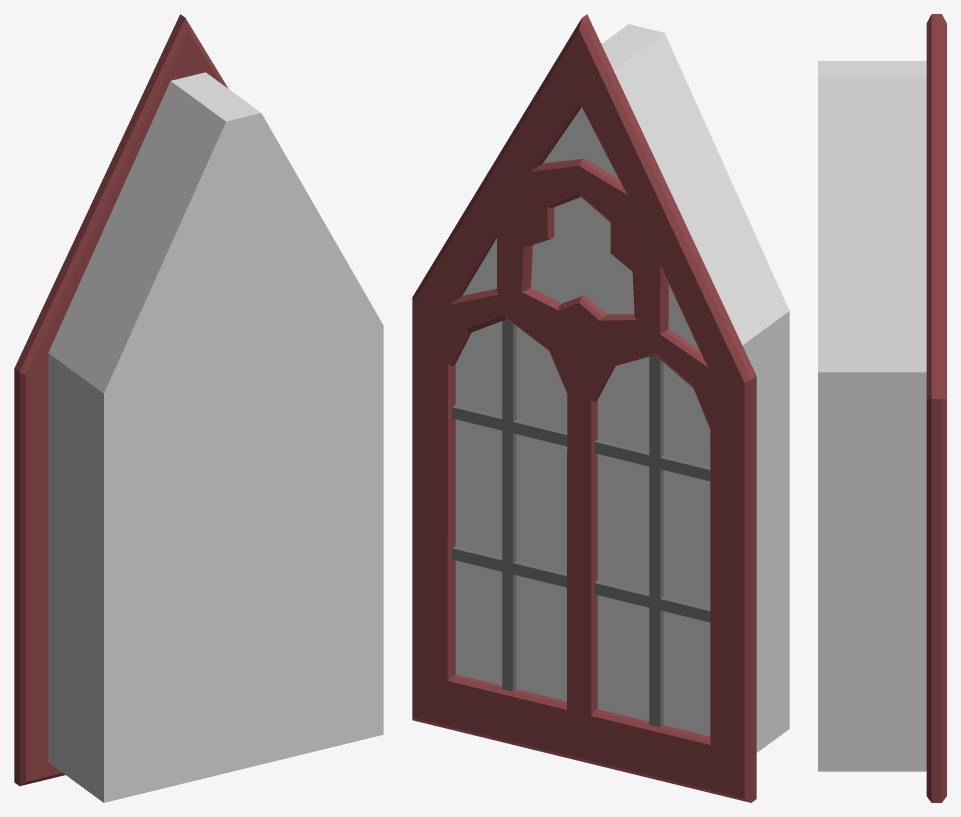
The model's file is Window.fbx.
3 views of the same model, side by side, from view 1: azimuth 30°, elevation 25°; view 2: azimuth 150°, elevation 25°; view 3: azimuth 270°, elevation 25° (orthographic). The views are drawn at different scales.
Parts seen in each view (by area): view 1: Cube.002, Cube; view 2: Cube, Cube.002, Cube.001; view 3: Cube.002, Cube.
Part boxes in pixels (left/top/right/bottom): Cube.002: left=48, top=72, right=383, bottom=802; Cube: left=14, top=14, right=228, bottom=786; Cube: left=412, top=14, right=756, bottom=802; Cube.002: left=455, top=24, right=789, bottom=752; Cube.001: left=452, top=319, right=710, bottom=727; Cube.002: left=818, top=61, right=926, bottom=771; Cube: left=926, top=14, right=946, bottom=802.
Bounding box in the file's own units: 201 × 421 × 69.35.
